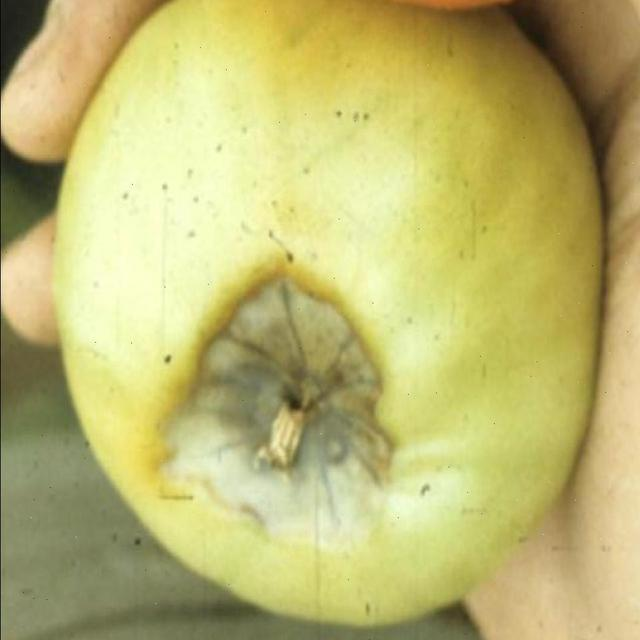Blossom End Rot Fruit: (109, 183, 263, 362)
